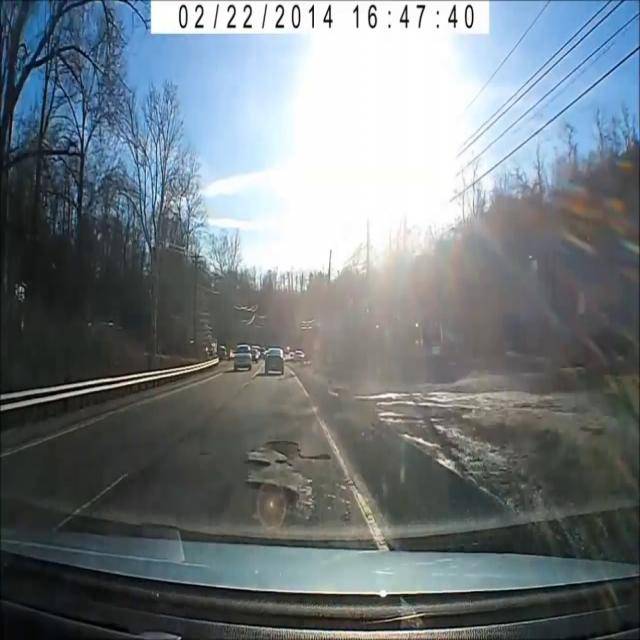Pothole: (266, 440, 301, 457), (302, 451, 331, 462)
